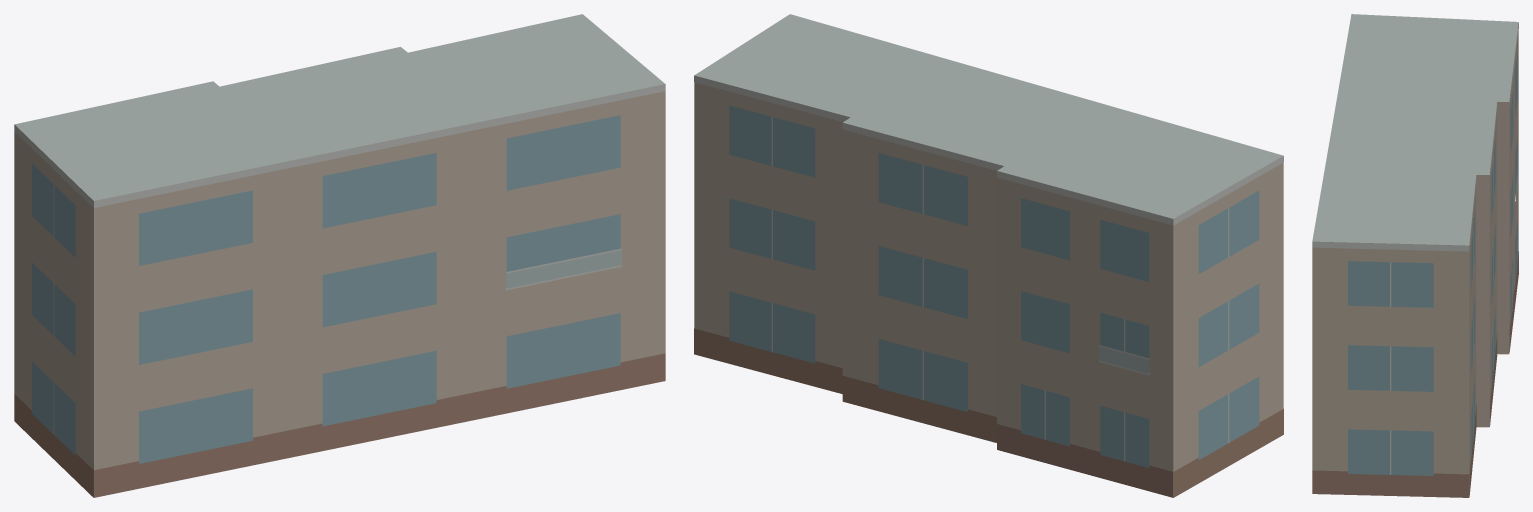
The model's file is survey-upis-32676365.glb.
3 views of the same model, side by side, from view 1: azimuth 30°, elevation 25°; view 2: azimuth 150°, elevation 25°; view 3: azimuth 270°, elevation 25° (orthographic). The views are drawn at different scales.
Parts seen in each view (by area): view 1: survey-upis-32676365.tmp; view 2: survey-upis-32676365.tmp; view 3: survey-upis-32676365.tmp.
Part boxes in pixels (x1,y1,x2,y2): survey-upis-32676365.tmp: [14, 14, 665, 497]; survey-upis-32676365.tmp: [694, 14, 1283, 497]; survey-upis-32676365.tmp: [1312, 14, 1518, 497].
Bounding box in the file's own units: 20.08 × 10.2 × 7.58.
